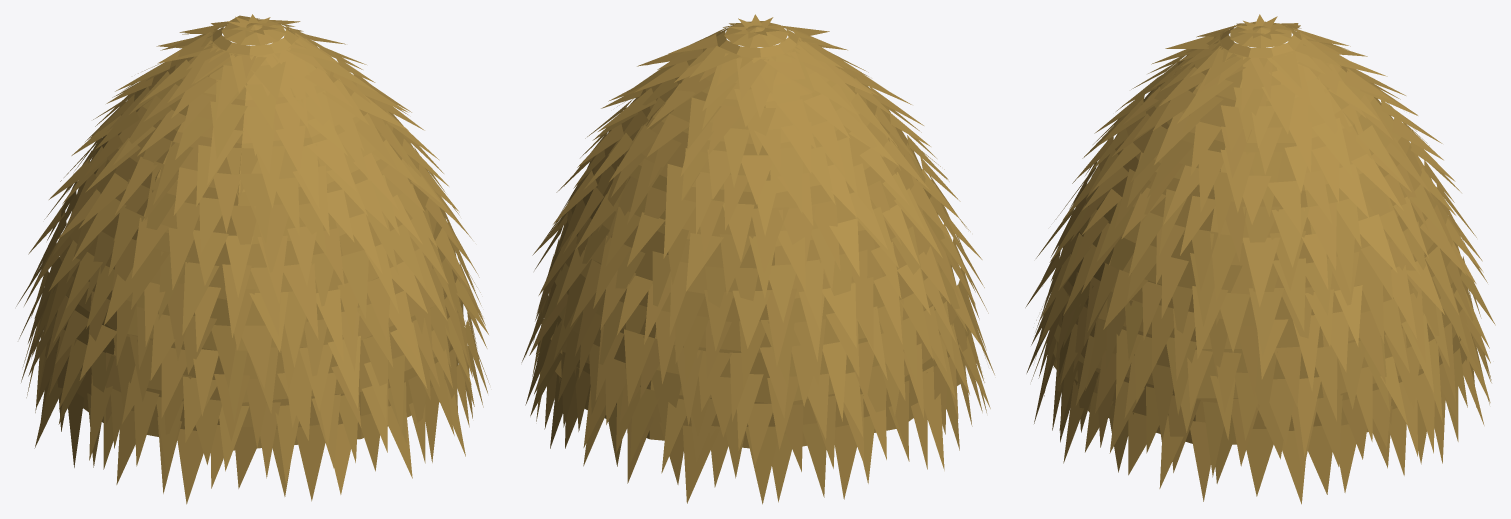
File: haystack-77b0dd.glb
The picture shows the model from 3 angles, left to right: view 1: azimuth 30°, elevation 25°; view 2: azimuth 150°, elevation 25°; view 3: azimuth 270°, elevation 25°; orthographic projection.
Bounding box in the file's own units: 2.02 × 1.85 × 2.04.
